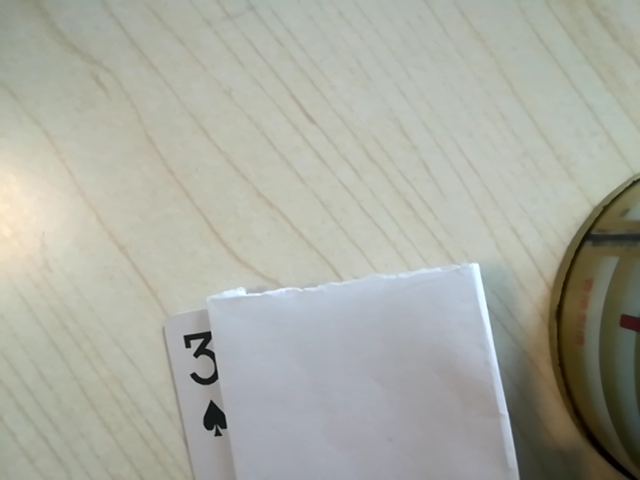ht 3: (178, 320, 234, 444)
